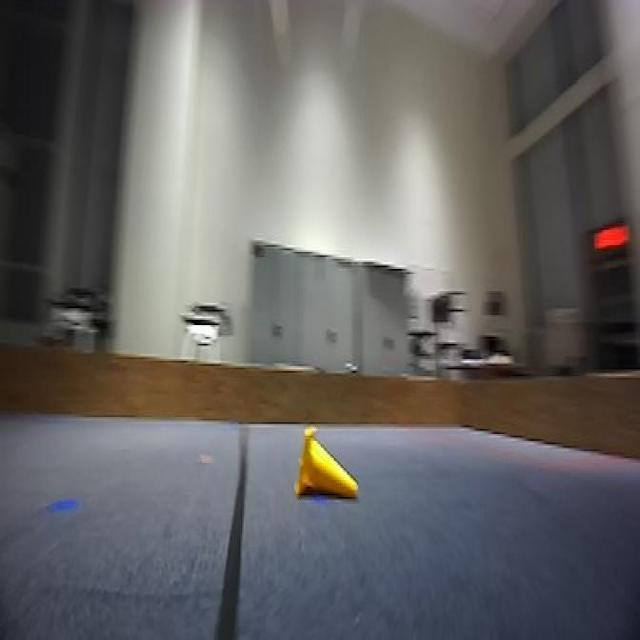frc_cone: (291, 422, 359, 514)
